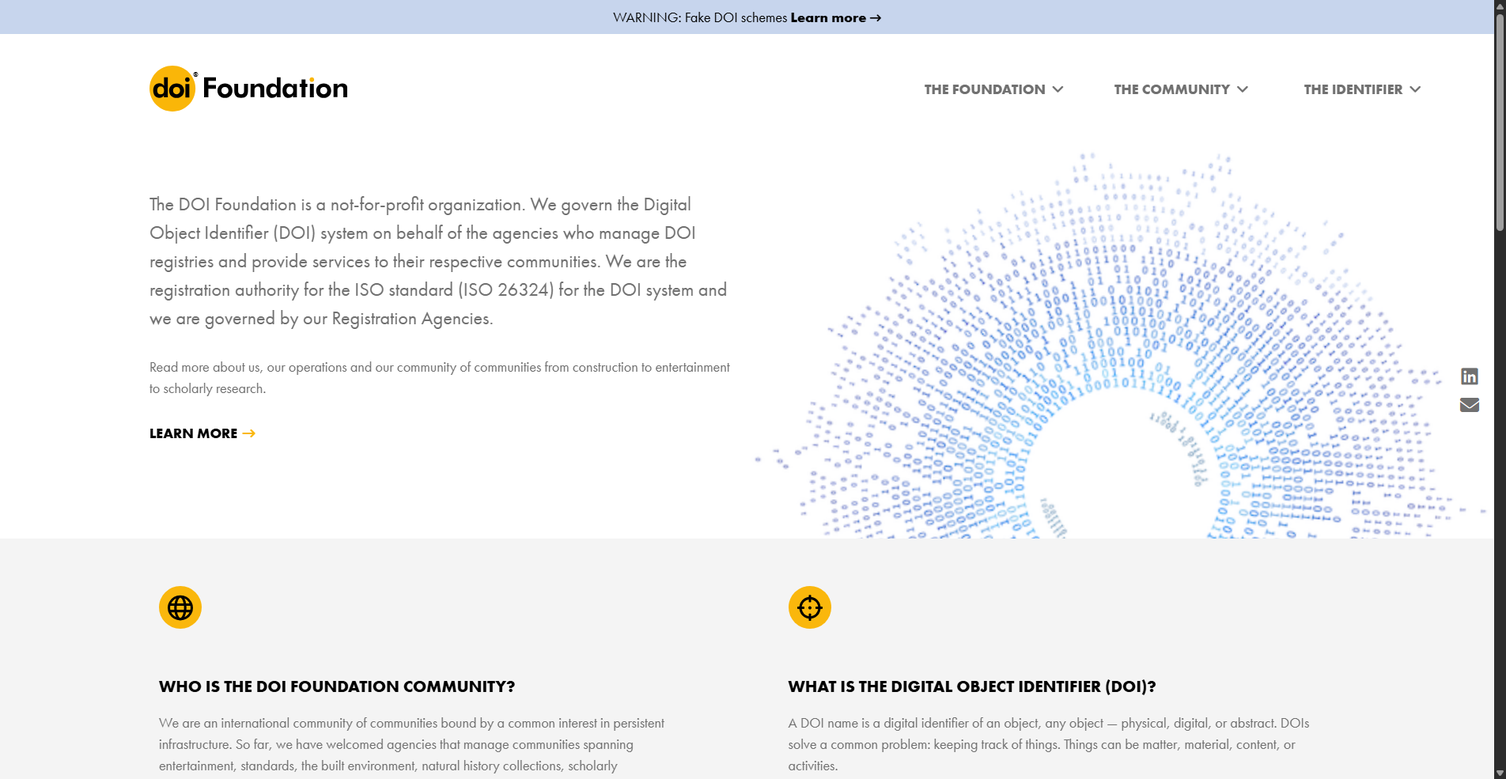icon: (1458, 367, 1481, 386)
link: (149, 78, 347, 96), (149, 424, 237, 442), (791, 8, 867, 26), (1458, 393, 1481, 418), (1458, 365, 1481, 389)
menu_item: (877, 80, 1447, 106)
